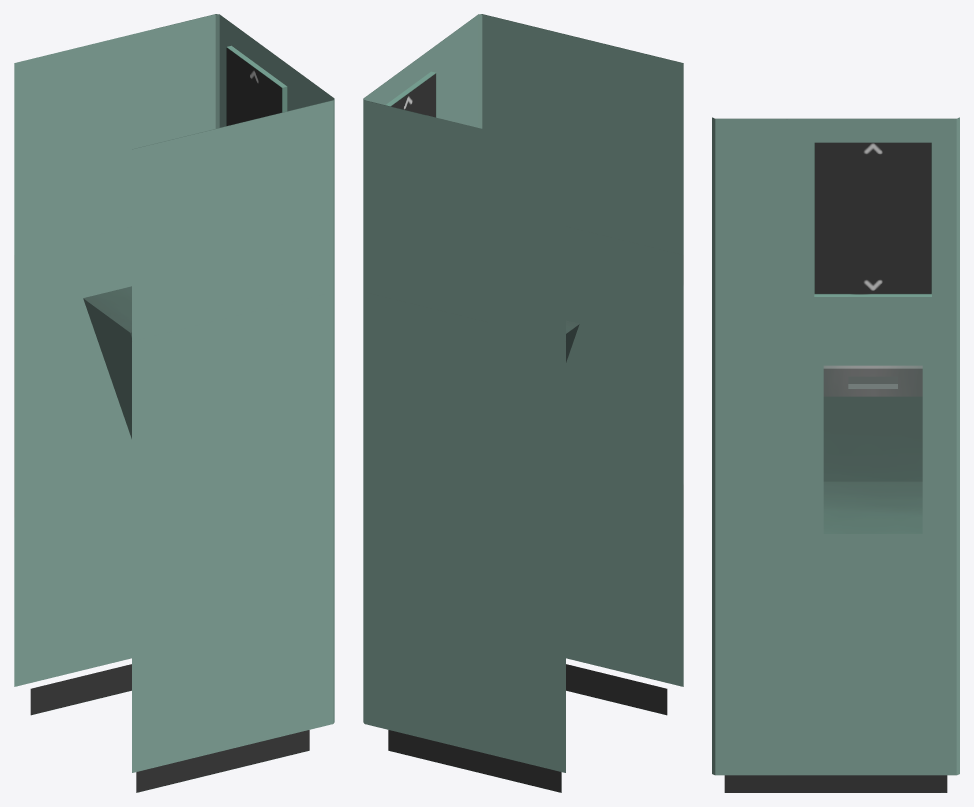
File: drinkMachineOpen.gltf
3 views of the same model, side by side, from view 1: azimuth 30°, elevation 25°; view 2: azimuth 150°, elevation 25°; view 3: azimuth 270°, elevation 25° (orthographic). The views are drawn at different scales.
Parts seen in each view (by area): view 1: Cube.007; view 2: Cube.007; view 3: Cube.007.
Boxes of the visible parts, x1=… form: Cube.007: x1=14, y1=14, x2=334, y2=792; Cube.007: x1=363, y1=14, x2=683, y2=792; Cube.007: x1=712, y1=117, x2=959, y2=792.
Bounding box in the file's own units: 2 × 6.1 × 2.
